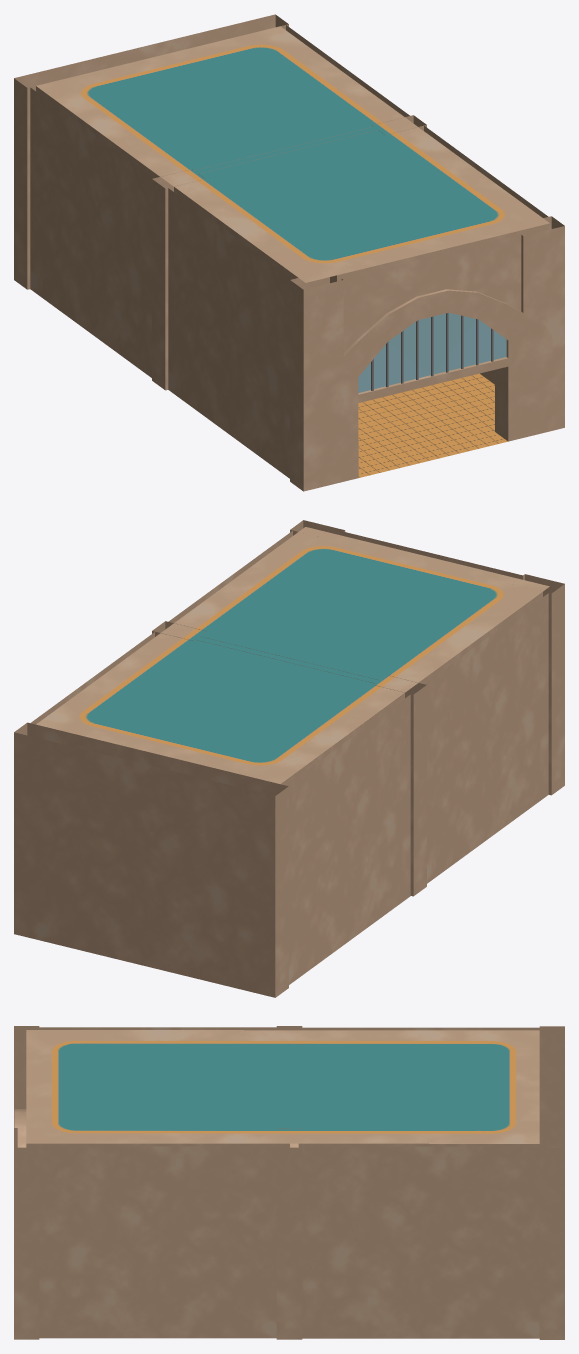
File: TrainStation_01_Mesh_03.fbx
3 views of the same model, one above another, from view 1: azimuth 30°, elevation 25°; view 2: azimuth 150°, elevation 25°; view 3: azimuth 270°, elevation 25° (orthographic). The views are drawn at different scales.
Visible parts, largest first — view 1: TrainStationBuilding; view 2: TrainStationBuilding; view 3: TrainStationBuilding.
Boxes of the visible parts, x1,y1,x2,y2 form: TrainStationBuilding: (14,14,564,491); TrainStationBuilding: (14,520,564,997); TrainStationBuilding: (14,1026,564,1339).
Size of the model in its own units: 4618 by 3789 by 8856.
